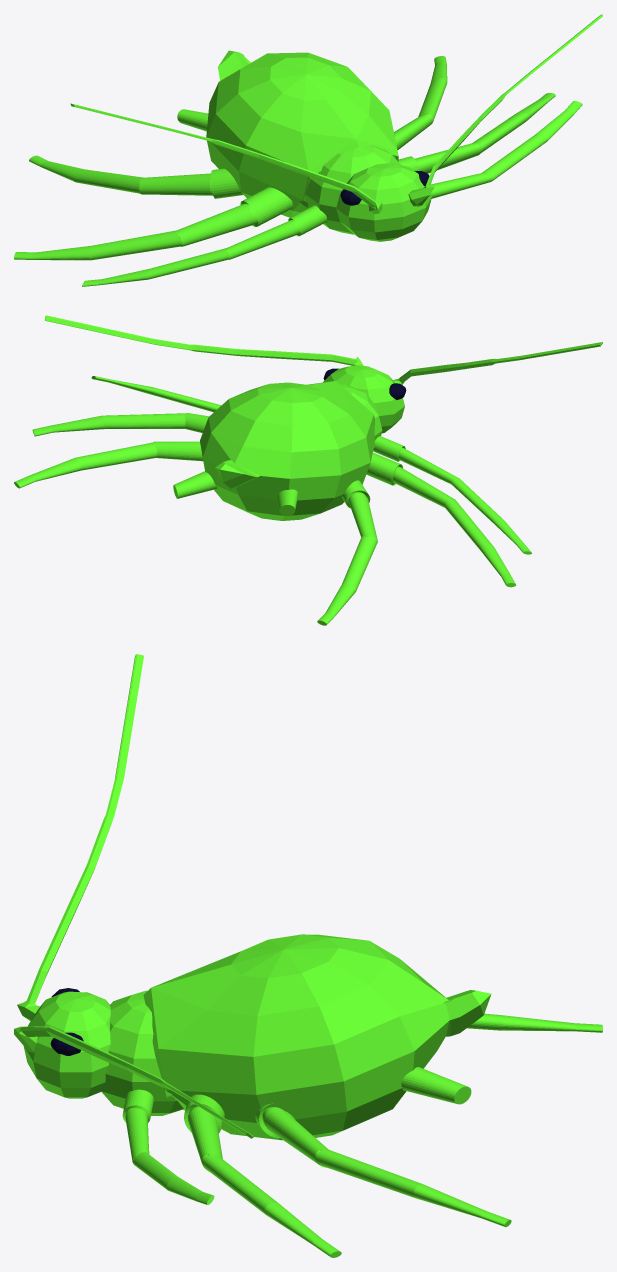
The model's file is pulgon2.glb.
The picture shows the model from 3 angles, top to bottom: view 1: azimuth 30°, elevation 25°; view 2: azimuth 150°, elevation 25°; view 3: azimuth 270°, elevation 25°; orthographic projection. The views are drawn at different scales.
Visible parts, largest first — view 1: Sphere, Cylinder.003, Sphere.002, Cylinder.002, Cylinder.004, Sphere.001, Cylinder.005, Cylinder.006, Sphere.005, Cylinder.007, Sphere.006, Cylinder.001; view 2: Sphere, Cylinder.003, Cylinder.007, Cylinder.002, Cylinder.006, Sphere.006, Cylinder.004, Sphere.002, Sphere.005, Cylinder.005, Cylinder, Sphere.001 (+1 smaller); view 3: Sphere, Sphere.002, Sphere.001, Cylinder.007, Cylinder.006, Sphere.005, Cylinder.005, Sphere.006, Cylinder.002, Cylinder.
Boxes of the visible parts, x1=… form: Sphere: x1=206, y1=50, x2=398, y2=217; Cylinder.003: x1=14, y1=187, x2=292, y2=260; Sphere.002: x1=336, y1=163, x2=431, y2=241; Cylinder.002: x1=29, y1=155, x2=243, y2=198; Cylinder.004: x1=82, y1=205, x2=327, y2=286; Sphere.001: x1=305, y1=145, x2=400, y2=234; Cylinder.005: x1=430, y1=101, x2=582, y2=198; Cylinder.006: x1=398, y1=93, x2=555, y2=173; Sphere.005: x1=70, y1=103, x2=382, y2=213; Cylinder.007: x1=394, y1=56, x2=447, y2=149; Sphere.006: x1=408, y1=14, x2=602, y2=206; Cylinder.001: x1=177, y1=109, x2=208, y2=131; Sphere: x1=200, y1=381, x2=374, y2=520; Cylinder.003: x1=366, y1=452, x2=515, y2=587; Cylinder.007: x1=14, y1=441, x2=203, y2=488; Cylinder.002: x1=317, y1=480, x2=377, y2=625; Cylinder.006: x1=32, y1=413, x2=208, y2=436; Sphere.006: x1=44, y1=315, x2=363, y2=365; Cylinder.004: x1=373, y1=436, x2=531, y2=554; Sphere.002: x1=323, y1=365, x2=404, y2=433; Sphere.005: x1=393, y1=342, x2=602, y2=384; Cylinder.005: x1=91, y1=376, x2=221, y2=412; Cylinder: x1=173, y1=471, x2=217, y2=498; Sphere.001: x1=340, y1=384, x2=382, y2=440; Sphere: x1=143, y1=934, x2=491, y2=1140; Sphere.002: x1=23, y1=991, x2=110, y2=1098; Sphere.001: x1=100, y1=990, x2=183, y2=1115; Cylinder.007: x1=255, y1=1103, x2=511, y2=1227; Cylinder.006: x1=184, y1=1094, x2=341, y2=1257; Sphere.005: x1=17, y1=654, x2=143, y2=1020; Cylinder.005: x1=122, y1=1089, x2=214, y2=1204; Sphere.006: x1=14, y1=1026, x2=253, y2=1138; Cylinder.002: x1=467, y1=1013, x2=602, y2=1032; Cylinder: x1=401, y1=1067, x2=471, y2=1104.
Bounding box in the file's own units: 12.32 × 4.51 × 8.23.
